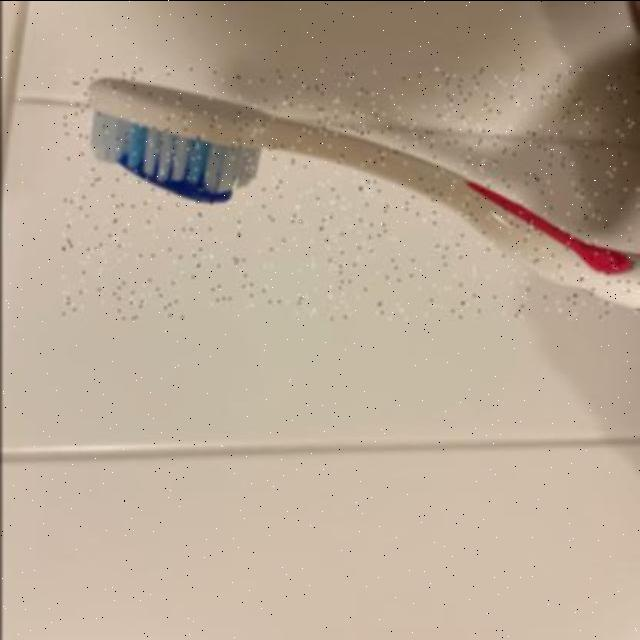toothbrush: (62, 68, 640, 318)
